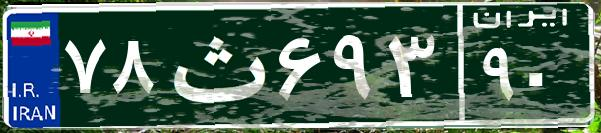0: (525, 38, 570, 115)
3: (385, 28, 445, 110)
6: (273, 28, 330, 110)
7: (57, 26, 110, 107)
8: (110, 28, 158, 105)
9: (330, 28, 385, 110), (475, 38, 525, 113)
ث: (158, 15, 273, 115)
